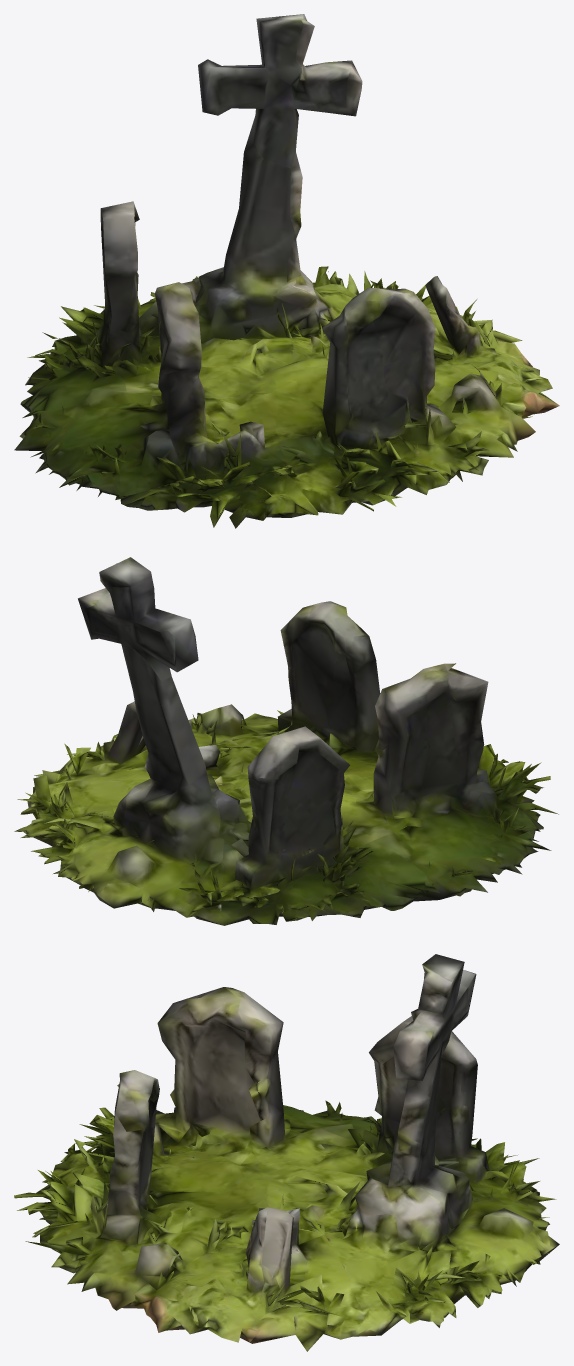
File: tombstones.glb
The picture shows the model from 3 angles, top to bottom: view 1: azimuth 30°, elevation 25°; view 2: azimuth 150°, elevation 25°; view 3: azimuth 270°, elevation 25°; orthographic projection. The views are drawn at different scales.
Parts seen in each view (by area): view 1: tripo_node_f0d6f030-1ca8-4498-bb3c-cacb9628e99b; view 2: tripo_node_f0d6f030-1ca8-4498-bb3c-cacb9628e99b; view 3: tripo_node_f0d6f030-1ca8-4498-bb3c-cacb9628e99b.
Boxes of the visible parts, x1,y1,x2,y2 form: tripo_node_f0d6f030-1ca8-4498-bb3c-cacb9628e99b: [14, 14, 559, 528]; tripo_node_f0d6f030-1ca8-4498-bb3c-cacb9628e99b: [14, 557, 558, 925]; tripo_node_f0d6f030-1ca8-4498-bb3c-cacb9628e99b: [14, 954, 559, 1351].
Size of the model in its own units: 0.9933 by 0.5988 by 0.942.
1 material, 1 textured.
